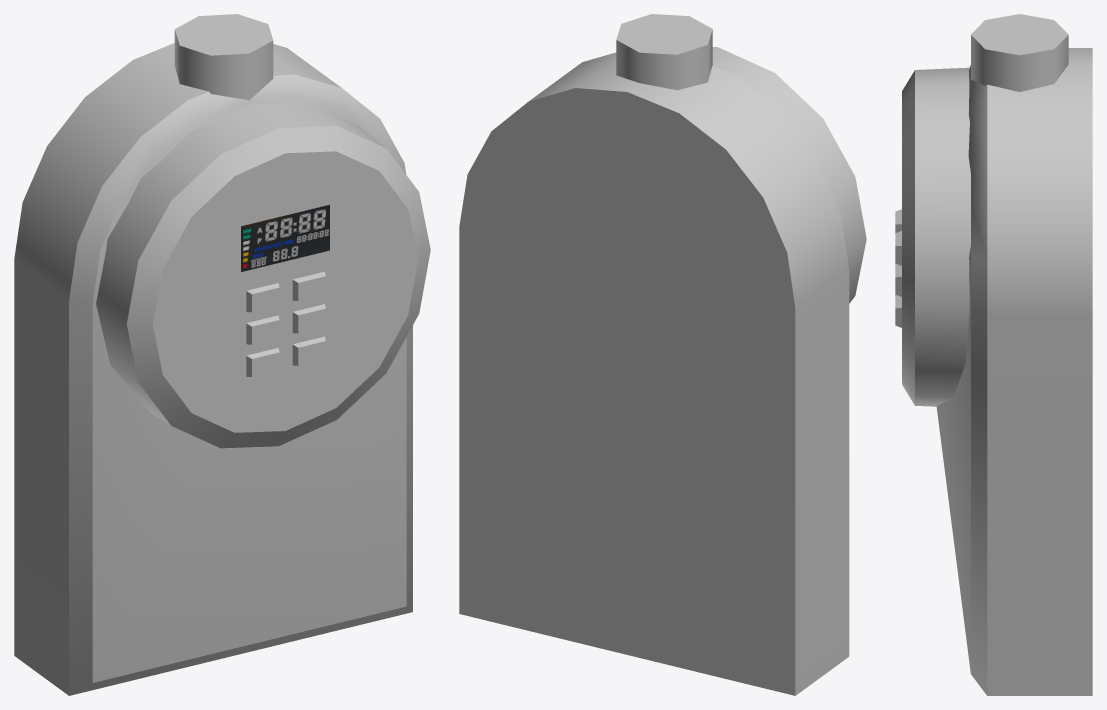
File: Dental_X-Ray_01.fbx
The picture shows the model from 3 angles, left to right: view 1: azimuth 30°, elevation 25°; view 2: azimuth 150°, elevation 25°; view 3: azimuth 270°, elevation 25°; orthographic projection. The views are drawn at different scales.
Parts seen in each view (by area): view 1: Dental_X-Ray_01; view 2: Dental_X-Ray_01; view 3: Dental_X-Ray_01.
Part boxes in pixels (bbox=[...]): Dental_X-Ray_01: bbox=[14, 14, 430, 695]; Dental_X-Ray_01: bbox=[459, 14, 866, 695]; Dental_X-Ray_01: bbox=[895, 14, 1092, 695].
Bounding box in the file's own units: 25 × 12.96 × 42.17.
